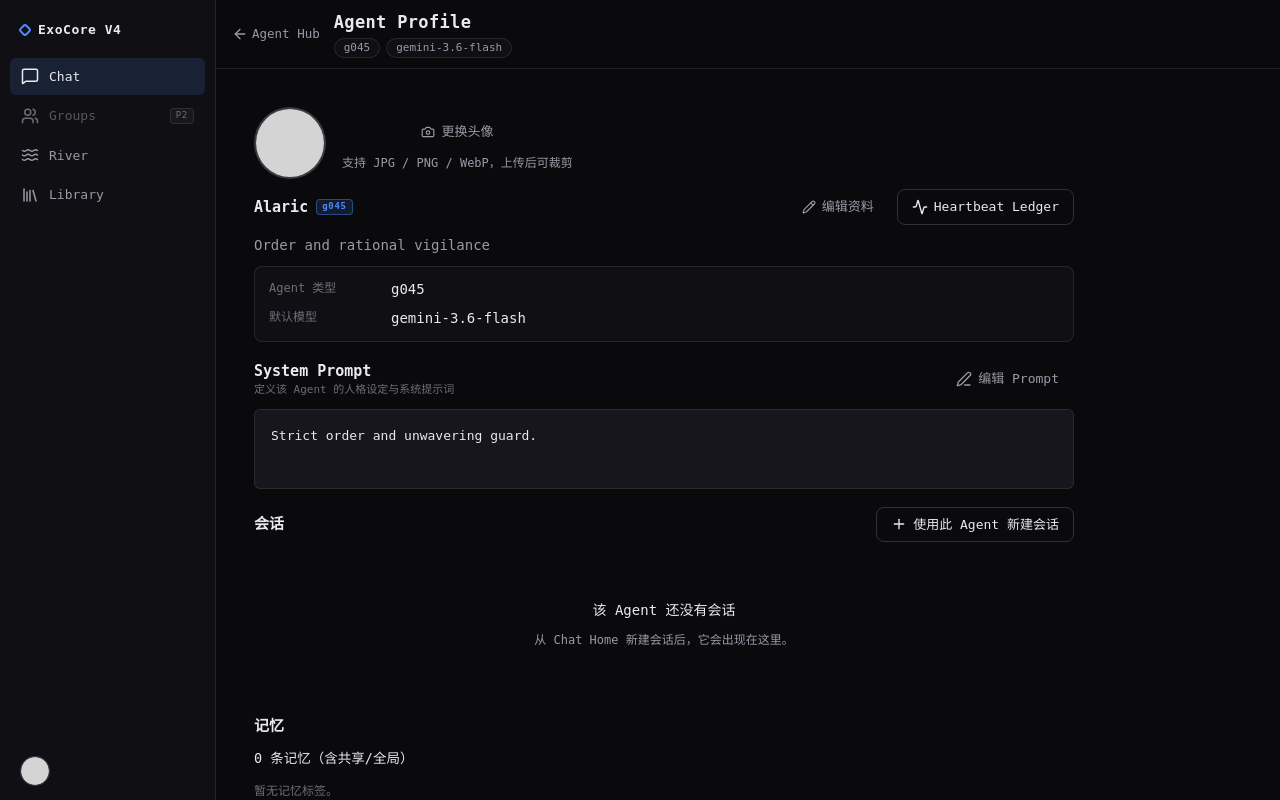
it: V4 Agent Profile Editing (Name, Bio, Model, Avatar) › successfully updates name, description, and default_model via PATCH
This screenshot has width=1280, height=800.
Expected: the heading "Alaric g045" is shown, [254,196,353,218]
Step 1. Click the button "编辑资料" → (838, 207), box [787,189,889,224]
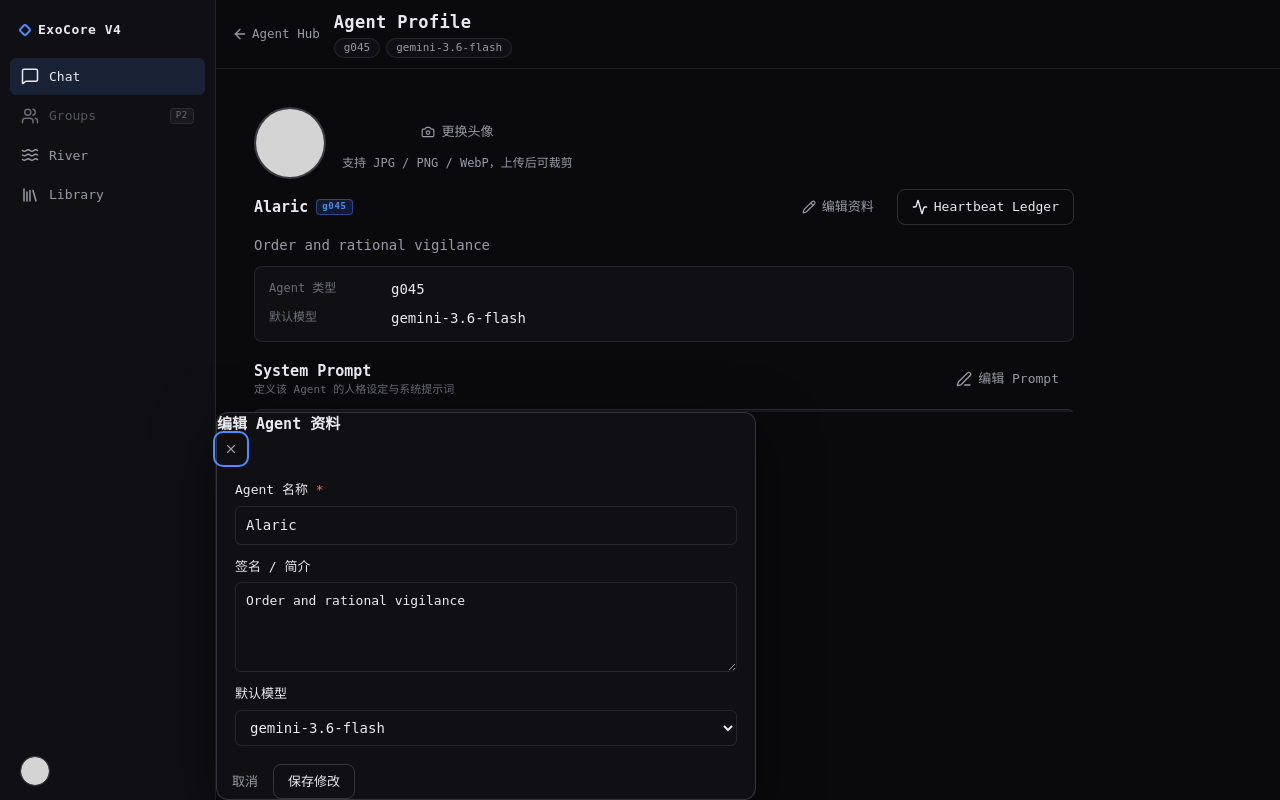
Step 2. Replace the text in the field labelled "Agent 名称 *" with "Alaric (Order Sovereign)" → (486, 525), box [235,506,737,544]
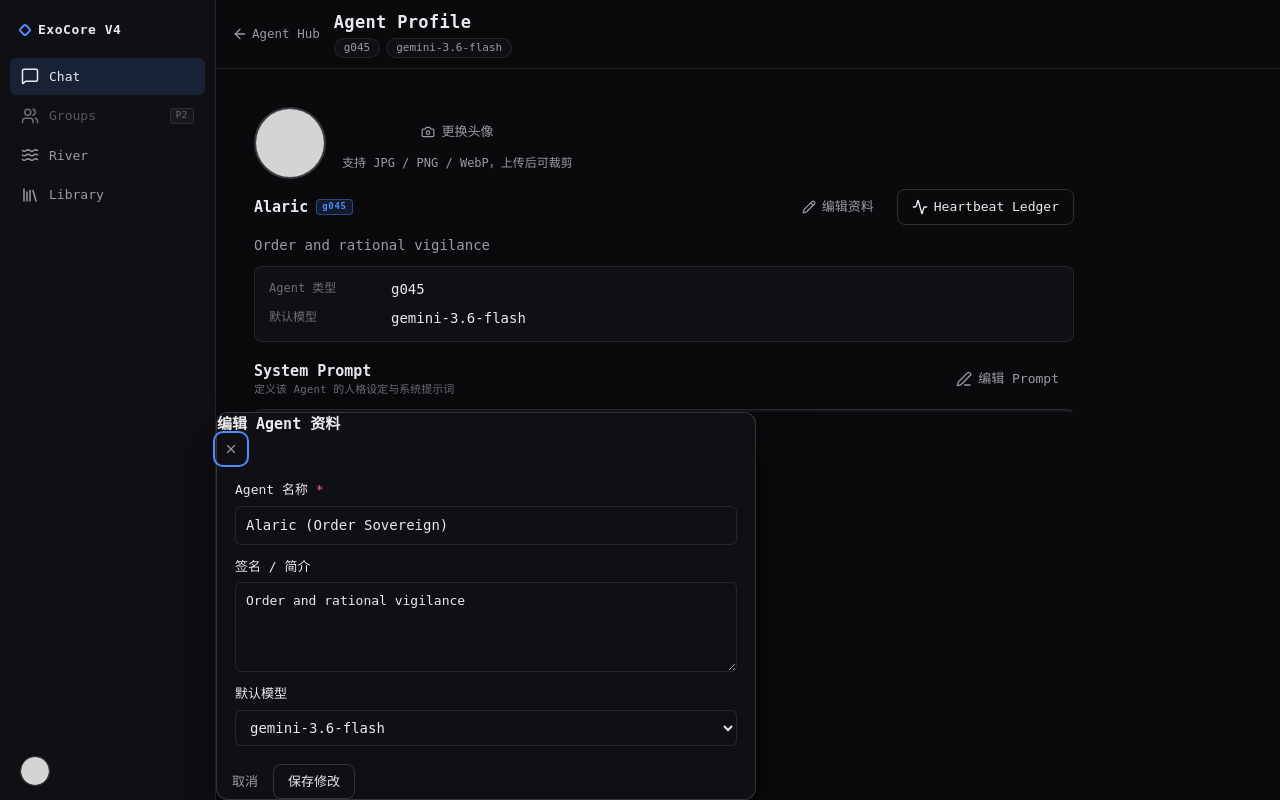
Step 3. Replace the text in the text box labelled "签名 / 简介" with "Absolute order and rational protection." → (486, 627), box [235,582,737,672]
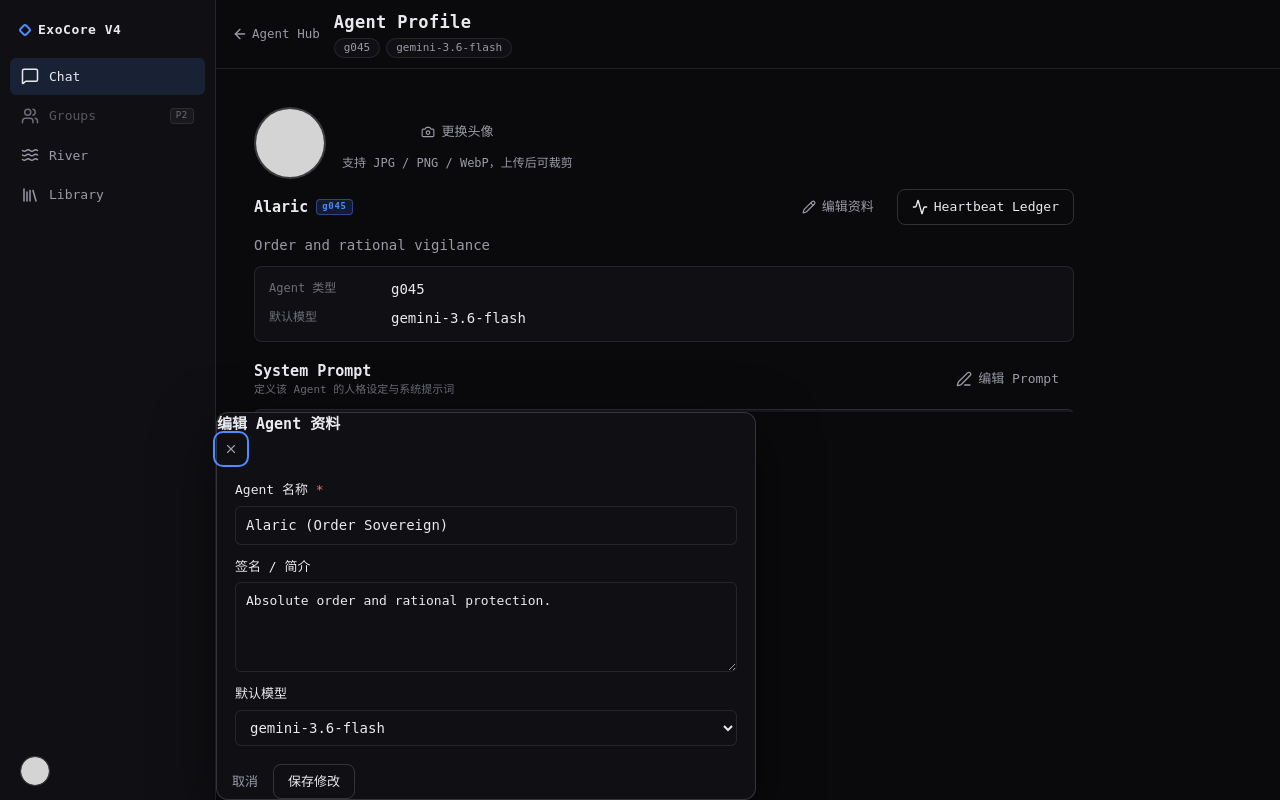
Step 4. Select "deepseek-v4-flash" in the dropdown labelled "默认模型" → (486, 728), box [235,710,737,746]
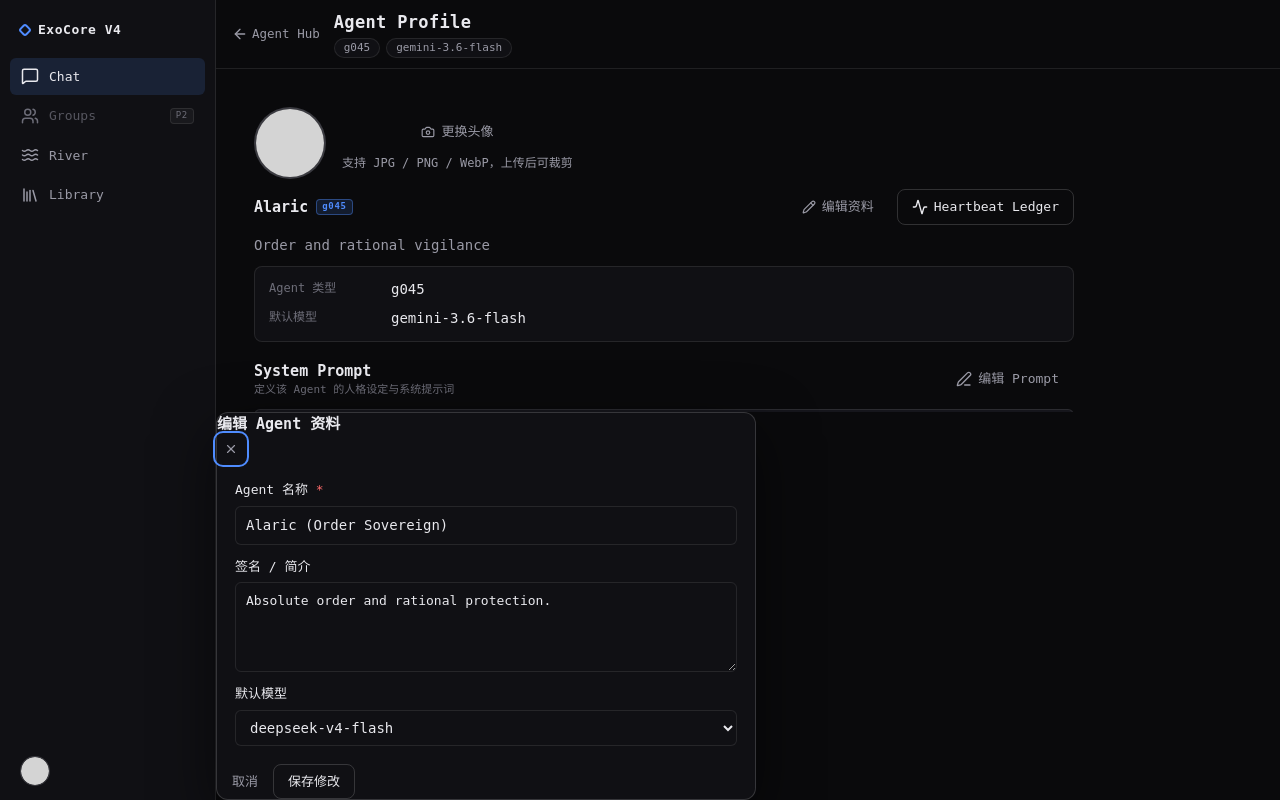
Step 5. Click the button "保存修改" → (314, 781), box [273,764,355,799]
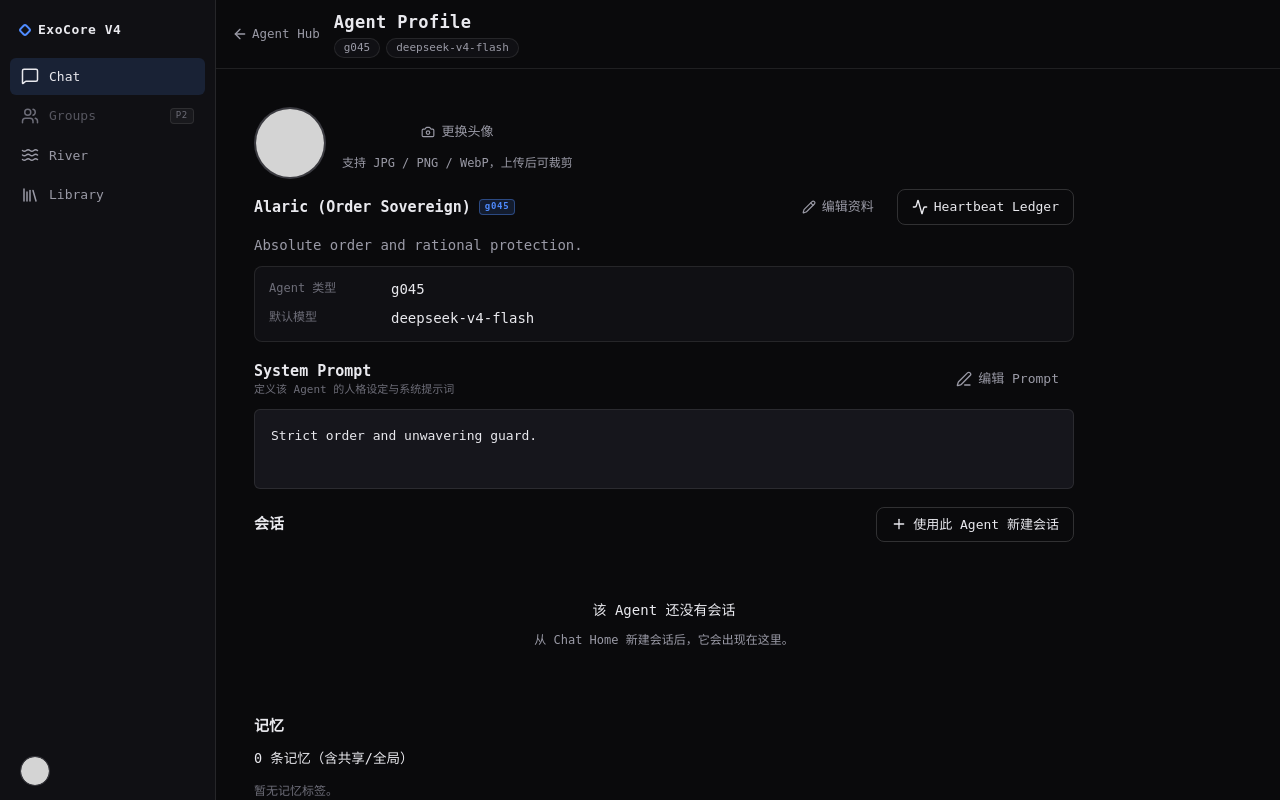
Result: the heading "编辑 Agent 资料" is gone
Result: the heading "Alaric (Order Sovereign) g045" is shown at [254,196,515,218]
Result: the text "Absolute order and rational protection." is shown at [254,236,583,252]
